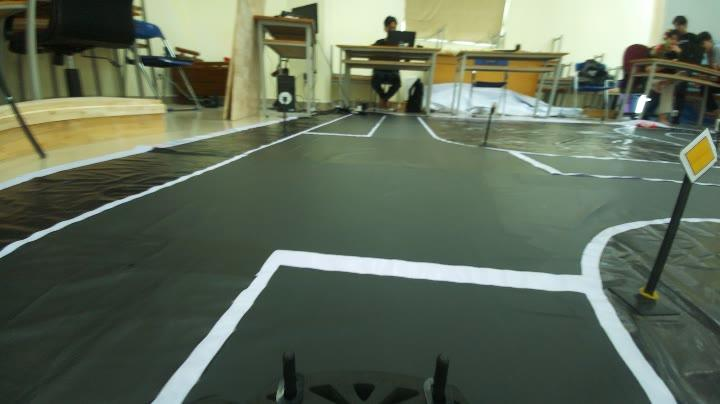priority: (670, 126, 718, 184)
